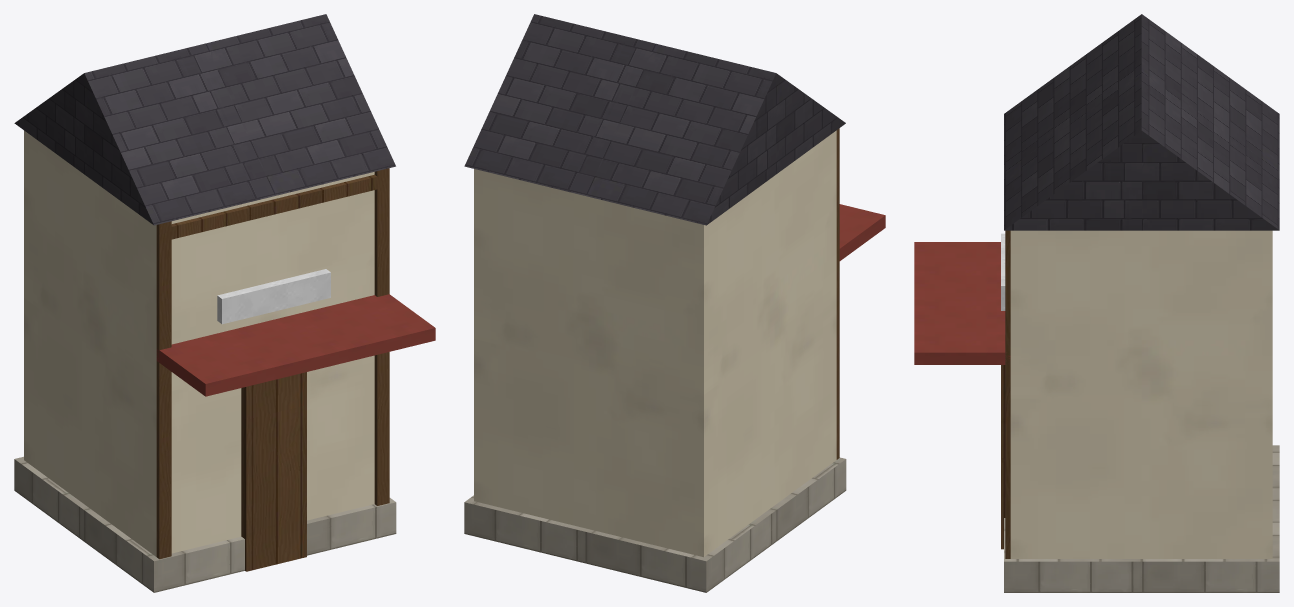
Rendered from category.dex.t2.glb.
The picture shows the model from 3 angles, left to right: view 1: azimuth 30°, elevation 25°; view 2: azimuth 150°, elevation 25°; view 3: azimuth 270°, elevation 25°; orthographic projection.
Visible parts, largest first — view 1: building.category.dex.t2; view 2: building.category.dex.t2; view 3: building.category.dex.t2.
Part boxes in pixels (x1,y1,x2,y2): building.category.dex.t2: (14,14,435,592); building.category.dex.t2: (464,14,885,592); building.category.dex.t2: (914,14,1279,592).
Size of the model in its own units: 2 by 3.7 by 2.65.
Materials: 6 (6 with a texture image).
